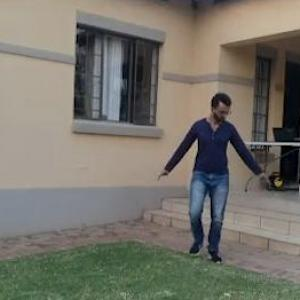land: (154, 90, 261, 268)
